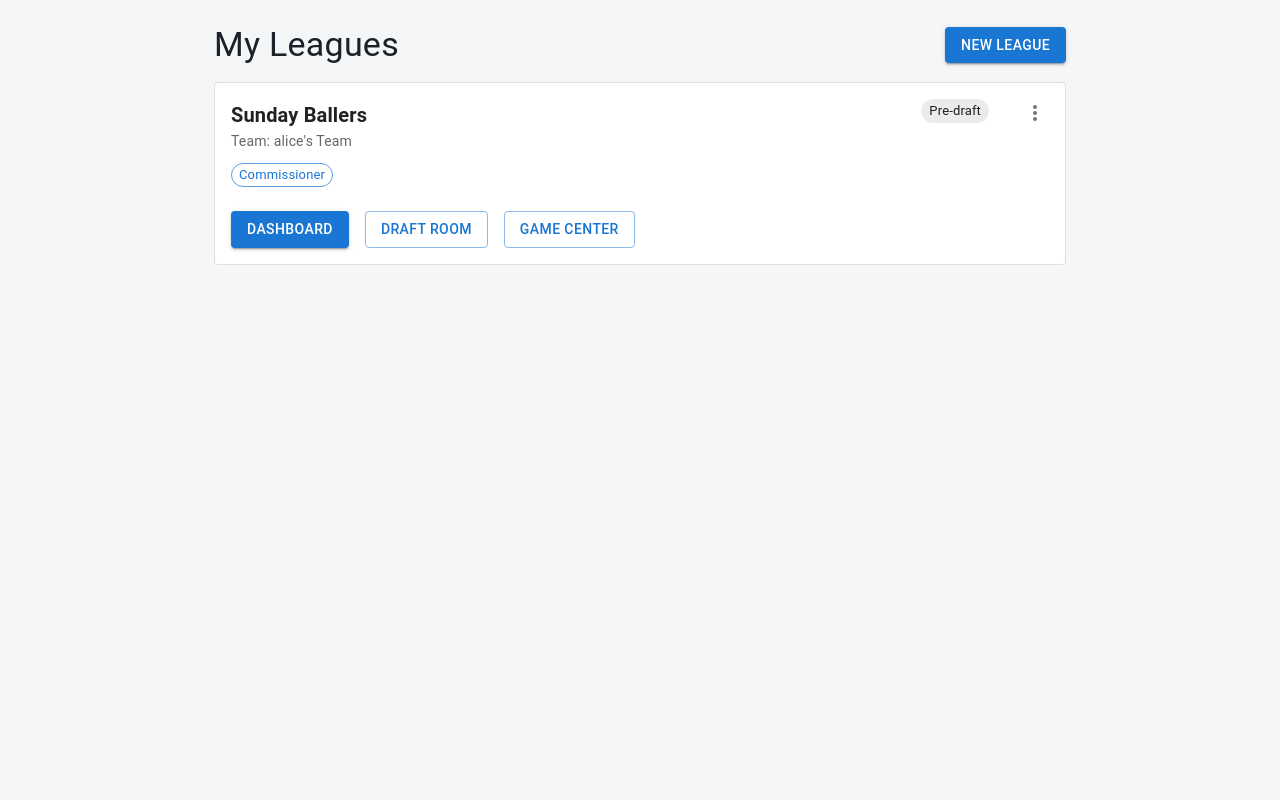
canceling the delete confirmation dialog leaves the league intact
Expected: the heading "Sunday Ballers" is shown, 231,99 -> 367,131
Click the button named "League actions for ": (1035, 113) 1013,91 -> 1057,135
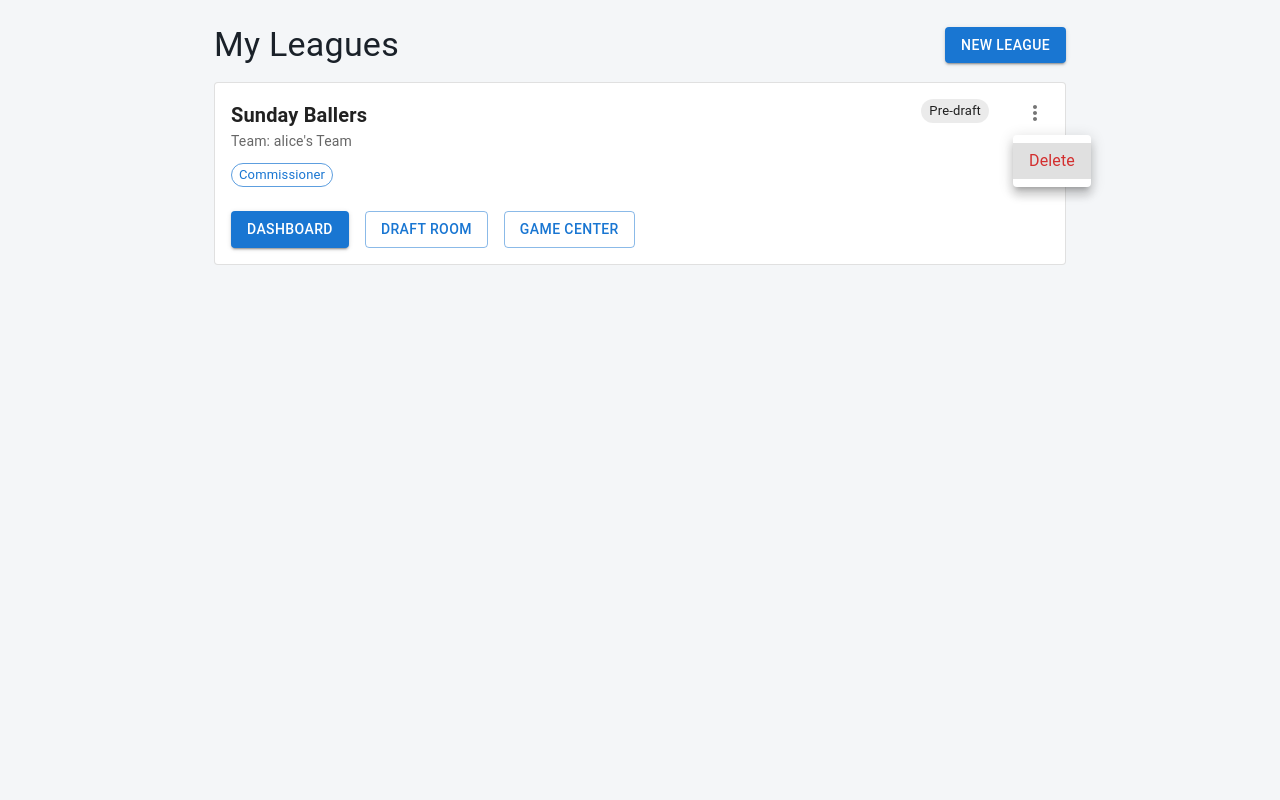
Click the menu item "Delete": (1052, 161) 1013,143 -> 1091,179
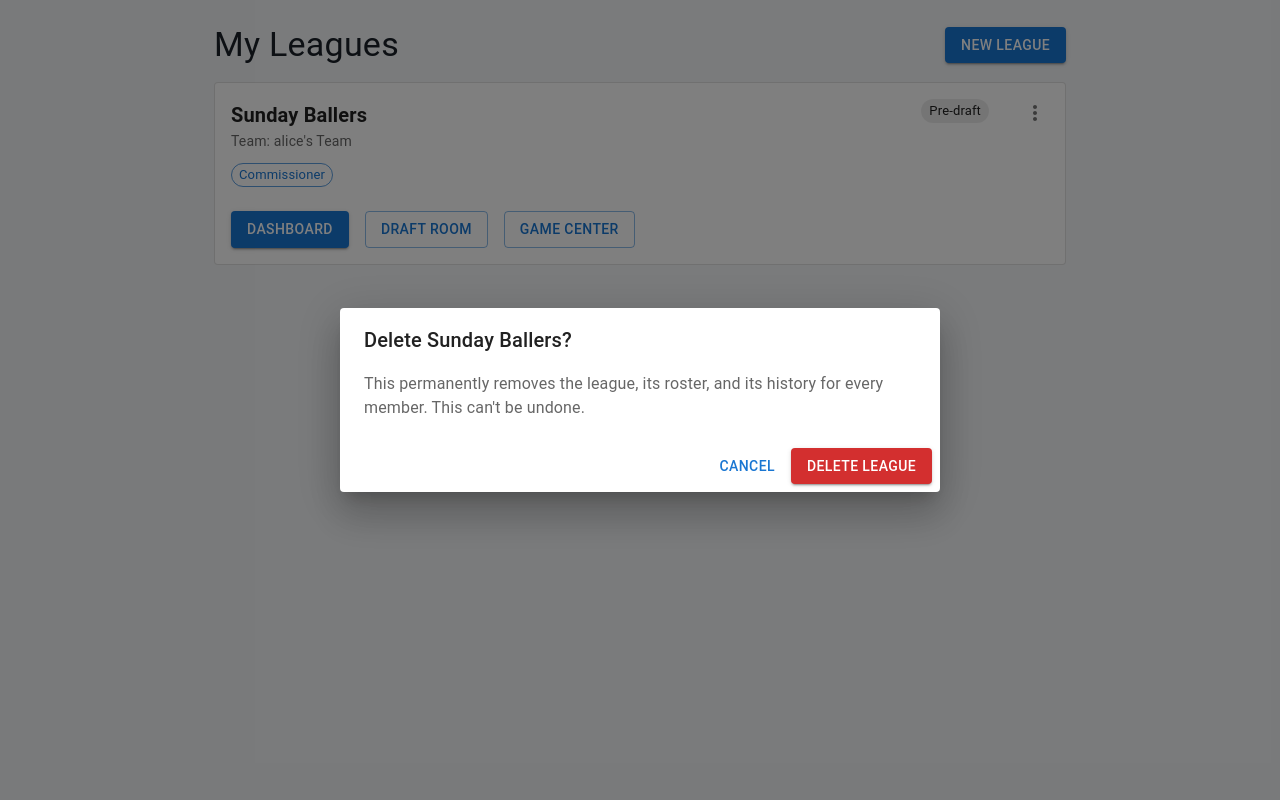
Now the heading "Delete Sunday Ballers?" is shown, box 364,328 -> 572,352
Click the button "Cancel": (747, 466) 712,448 -> 783,484
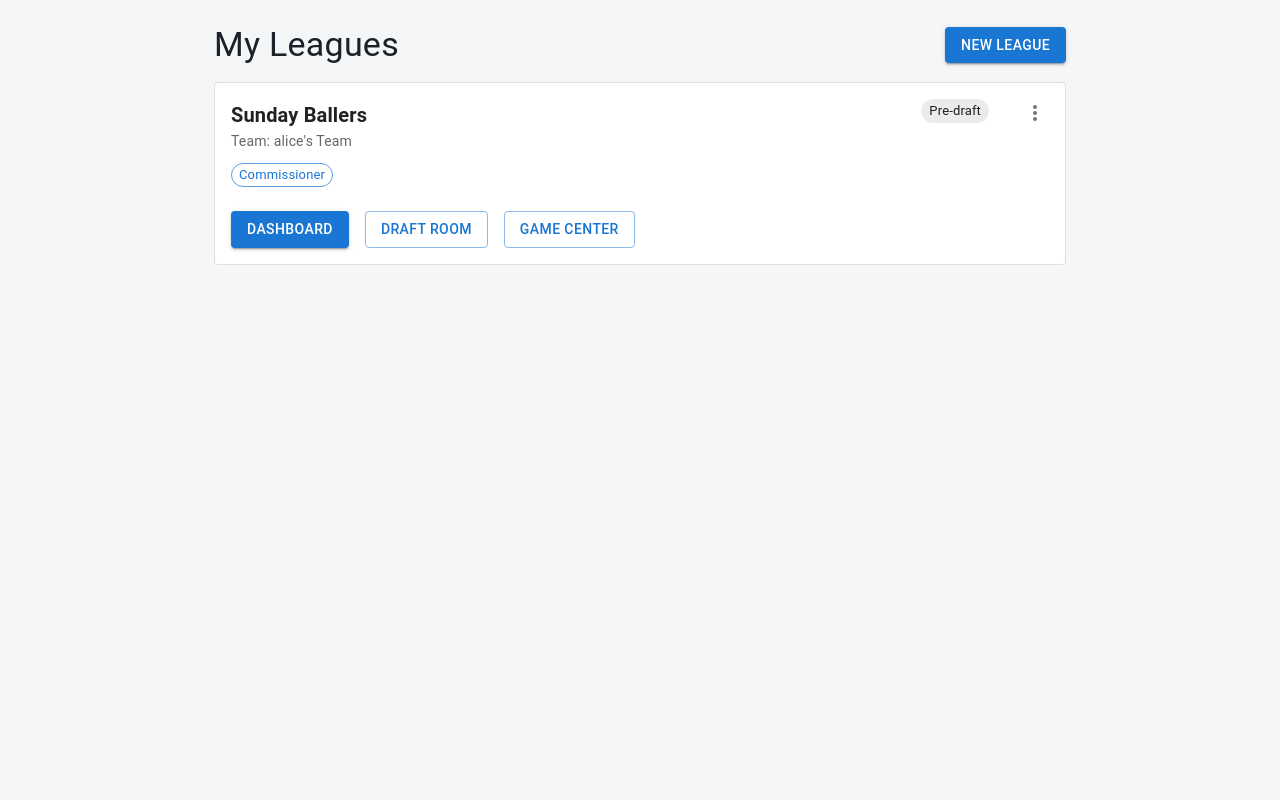
Expected: the heading "Sunday Ballers" is shown, 231,99 -> 367,131
Now the heading "Delete Sunday Ballers?" is gone
